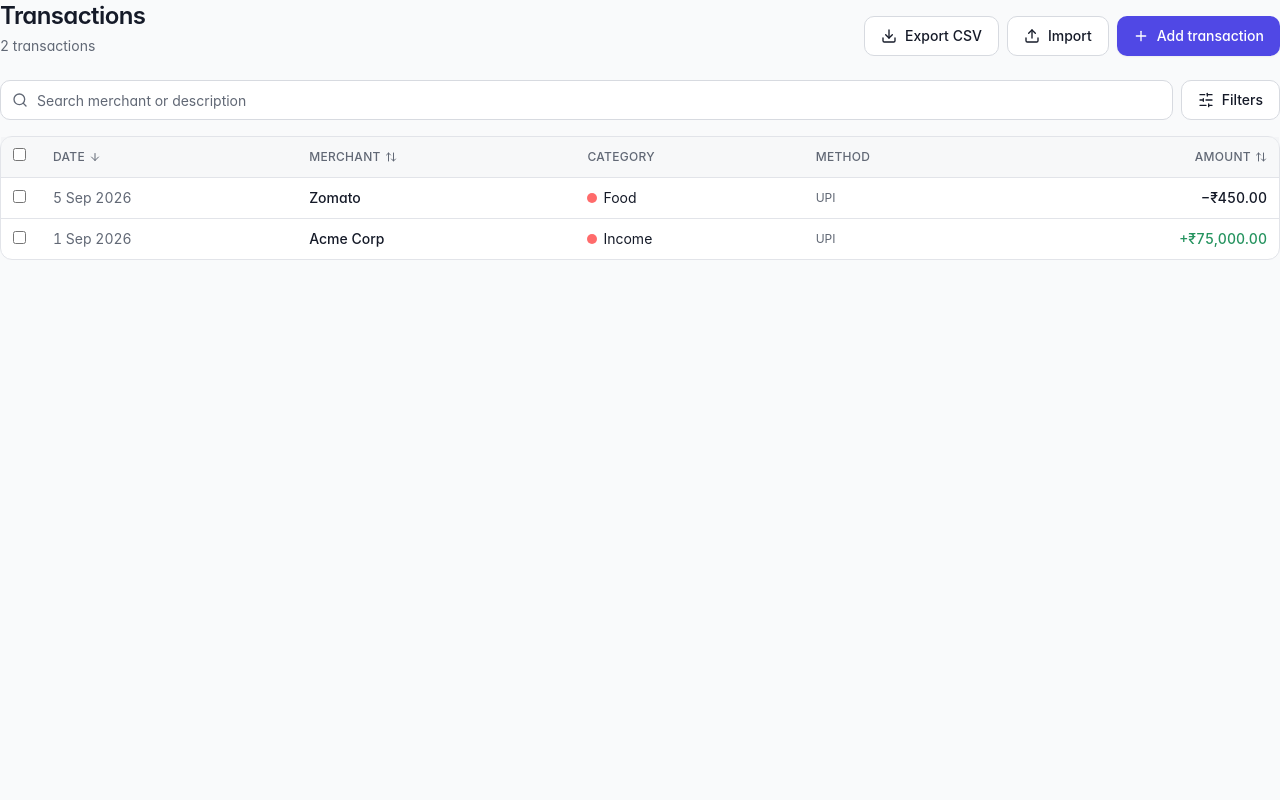
Test: TransactionsPage › validates the manual transaction form
The width and height of the screenshot is (1280, 800).
Expected: the table named "Transactions" is shown, left=1, top=137, right=1279, bottom=258
Click the button "Add transaction" at [1198, 36], box left=1117, top=16, right=1279, bottom=56
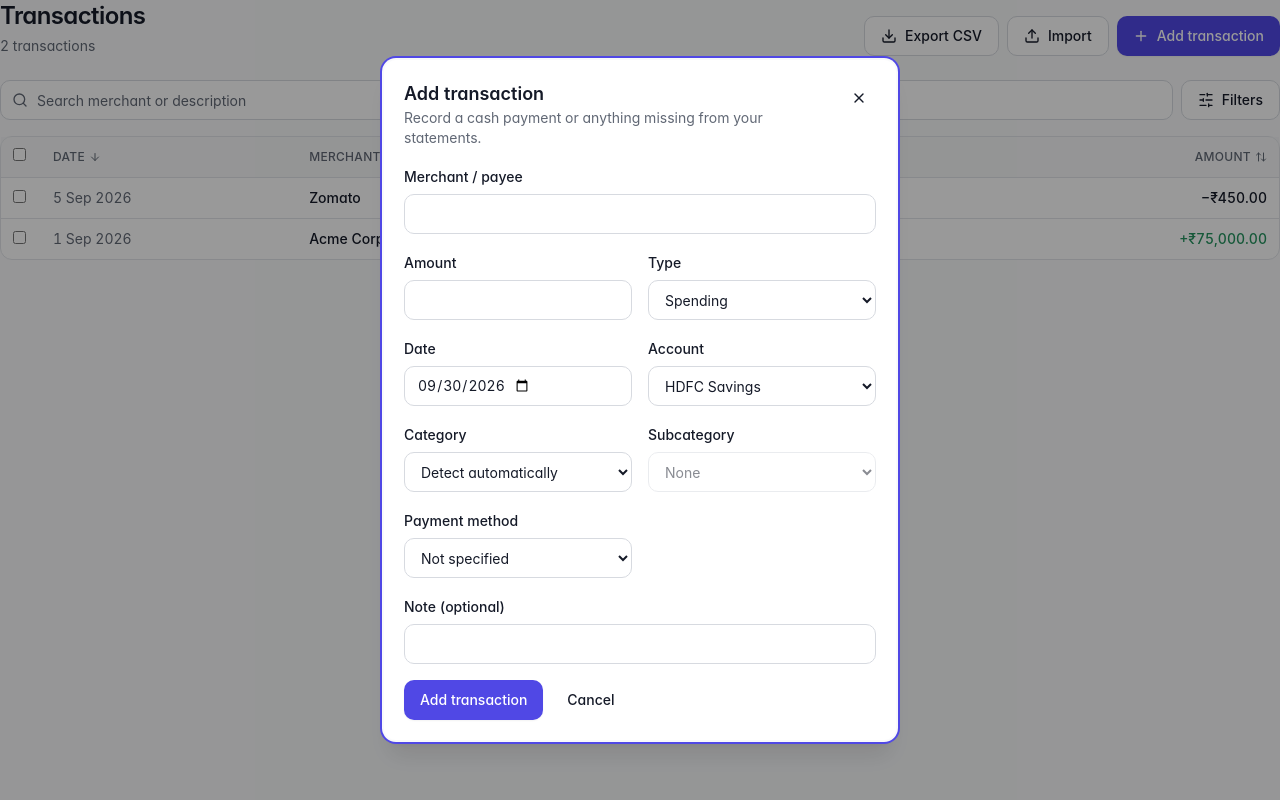
Type "-5" into the field labelled "Amount" at [518, 300], box left=404, top=280, right=632, bottom=320
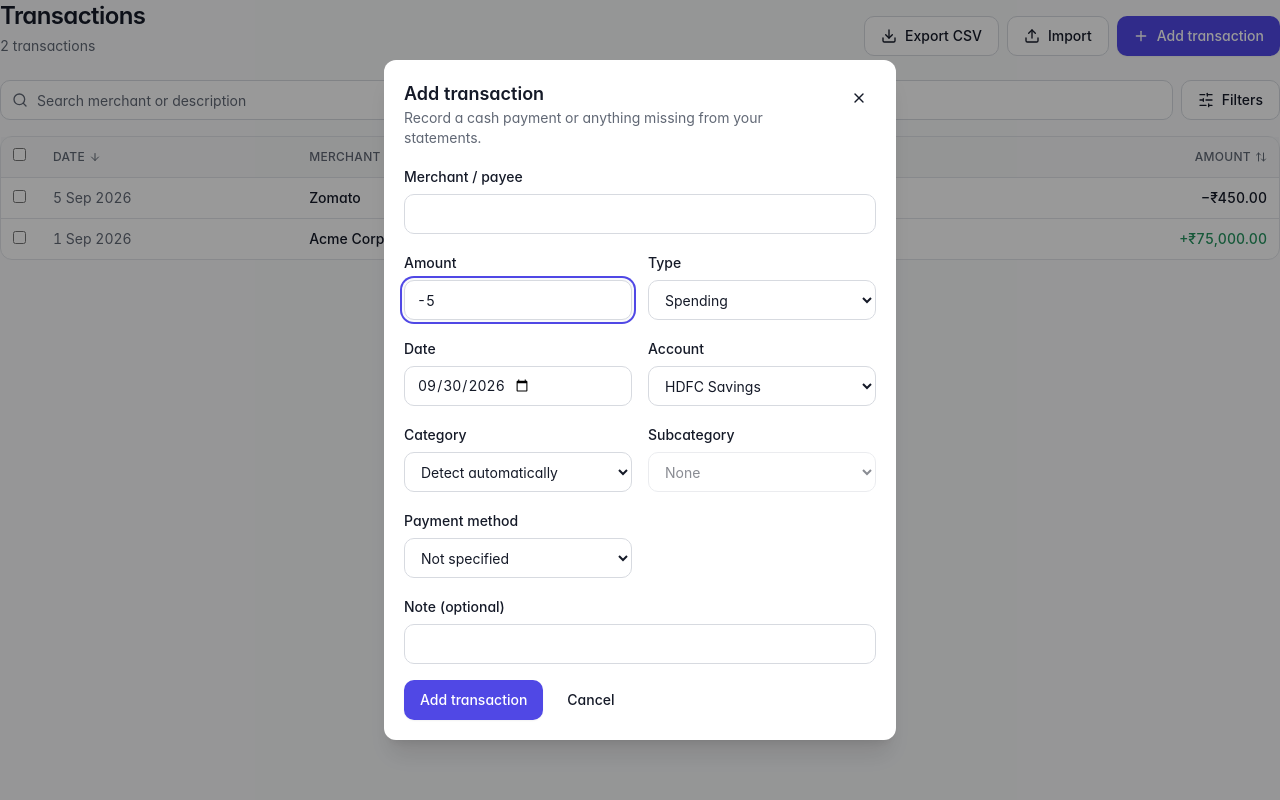
Click the button "Add transaction" at [474, 700], box left=404, top=680, right=543, bottom=720
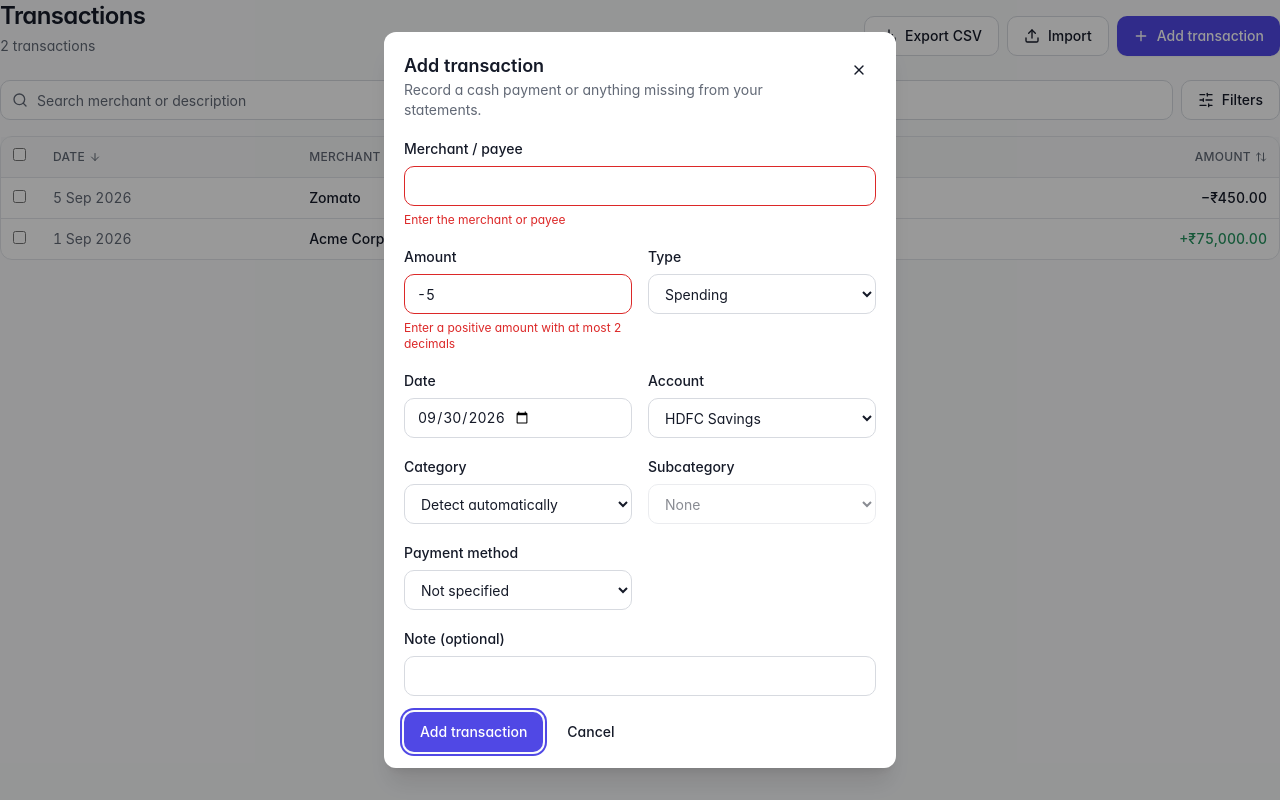
Now the text "Enter the merchant or payee" is shown, box left=404, top=212, right=566, bottom=227
Now the text "Enter a positive amount with at most 2 decimals" is shown, box left=404, top=320, right=632, bottom=352
